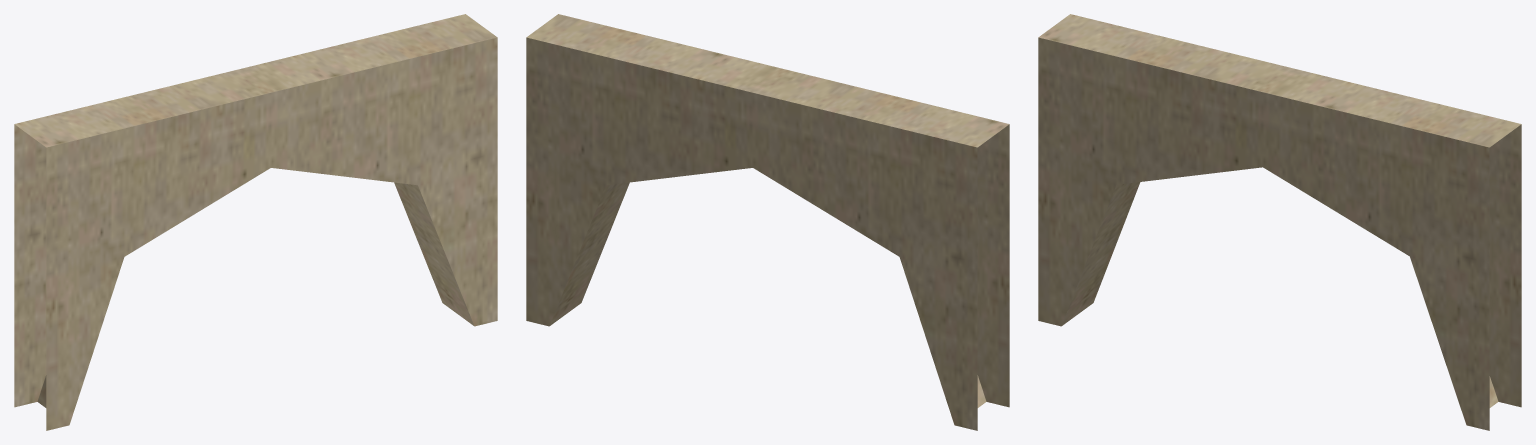
The model's file is roman_aqueduct_base.glb.
3 views of the same model, side by side, from view 1: azimuth 30°, elevation 25°; view 2: azimuth 150°, elevation 25°; view 3: azimuth 330°, elevation 25° (orthographic).
Parts seen in each view (by area): view 1: MeshRoot; view 2: MeshRoot; view 3: MeshRoot.
Part boxes in pixels (box(x1,y1,x2,y2)): MeshRoot: box(14, 14, 497, 430); MeshRoot: box(526, 14, 1009, 430); MeshRoot: box(1038, 14, 1521, 430).
Bounding box in the file's own units: 6.09 × 3.66 × 0.75.
Materials: 1 (1 with a texture image).
